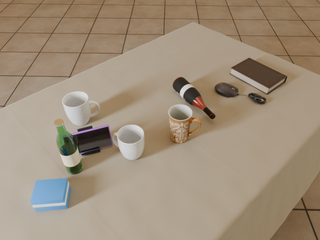book: (230, 58, 287, 94)
bottle: (173, 77, 215, 119), (54, 119, 83, 174)
box: (30, 178, 70, 211)
cup: (62, 92, 100, 126), (169, 105, 201, 143), (112, 125, 144, 160)
mouse: (215, 83, 239, 97)
phone: (72, 125, 113, 153)
